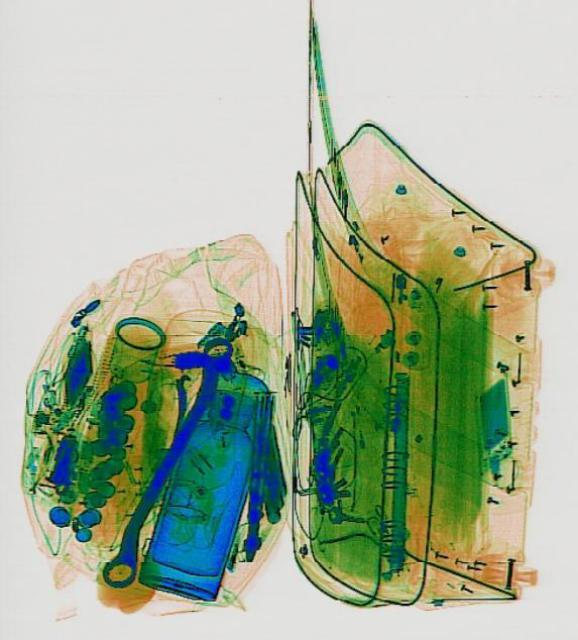Wrench: (94, 329, 241, 593)
